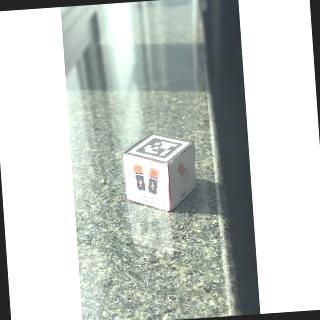Used_Battery: (118, 152, 175, 221)
